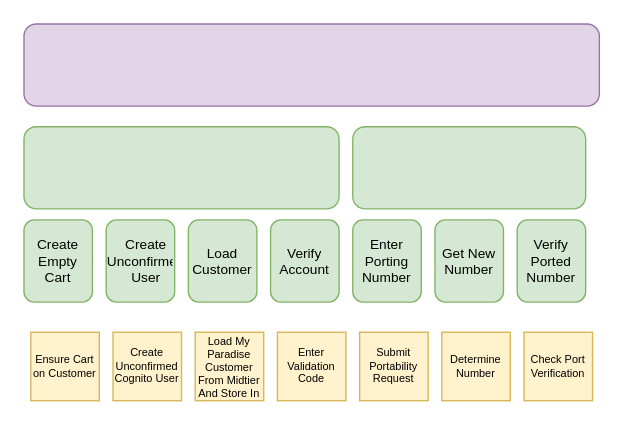
The diagram is 623 pixels wide and 425 high, and some of its shapes have lost their labels. The box of each missing label's shape, as (x1, y1, x2, y2) in pixels:
Create Customer: (23, 125, 339, 209)
Get Number: (351, 125, 586, 209)
Onboard A Customer: (23, 23, 599, 106)
